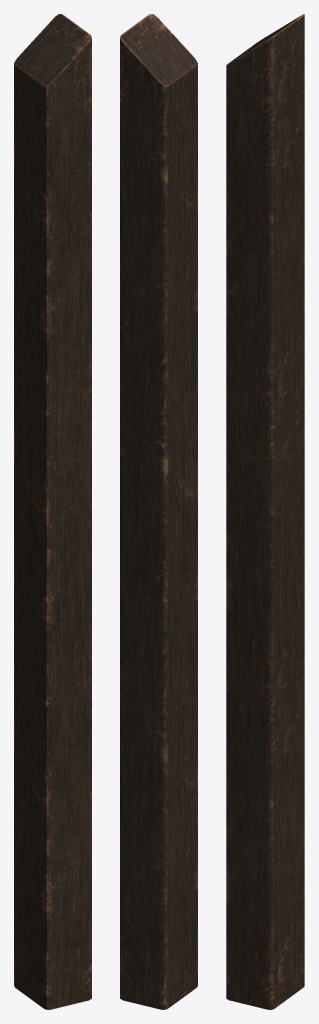
File: Stable_Column1_LP.glb
3 renders of one model, left to right at view 1: azimuth 30°, elevation 25°; view 2: azimuth 150°, elevation 25°; view 3: azimuth 330°, elevation 25°, orthographic.
Parts seen in each view (by area): view 1: Stable_Column1_LP; view 2: Stable_Column1_LP; view 3: Stable_Column1_LP.
Part boxes in pixels (<box>): Stable_Column1_LP: <box>14,14,91,1009</box>; Stable_Column1_LP: <box>120,14,197,1009</box>; Stable_Column1_LP: <box>226,14,304,1009</box>.
Bounding box in the file's own units: 0.4 × 7.73 × 0.5025.
1 material, 1 textured.
